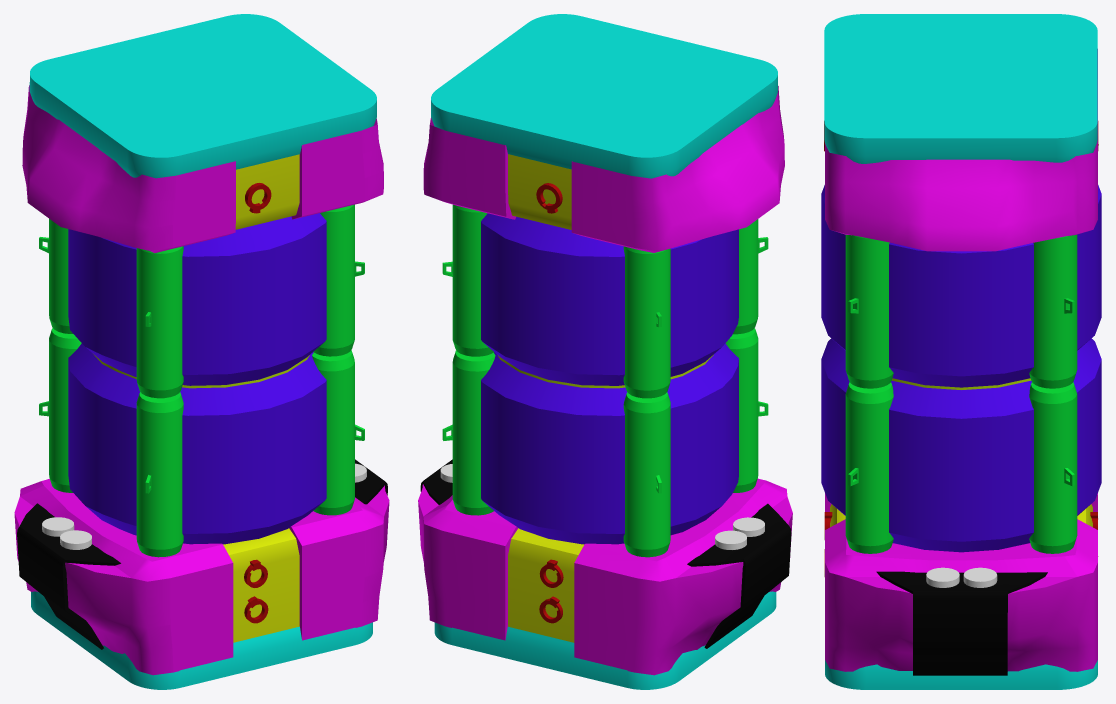
Rendered from SIloLowPolyFinalFix.fbx.
3 renders of one model, left to right at view 1: azimuth 30°, elevation 25°; view 2: azimuth 150°, elevation 25°; view 3: azimuth 270°, elevation 25°, orthographic. The views are drawn at different scales.
Visible parts, largest first — view 1: HighPoly24:Top_Cover, HighPoly25:innert_tube_B1, HighPoly24:innert_tube_B1, HighPoly24:Outer_tubes, HighPoly24:Top_main, polySurface4, polySurface1, HighPoly24:Base_Bottom, HighPoly24:BaseInner, HighPoly24:BasePlate, HighPoly24:Top_inner; view 2: HighPoly24:Top_Cover, HighPoly25:innert_tube_B1, HighPoly24:innert_tube_B1, HighPoly24:Outer_tubes, HighPoly24:Top_main, polySurface4, polySurface1, HighPoly24:Base_Bottom, HighPoly24:BaseInner, HighPoly24:BasePlate, HighPoly24:Top_inner; view 3: HighPoly24:Top_Cover, HighPoly25:innert_tube_B1, HighPoly24:Outer_tubes, HighPoly24:innert_tube_B1, polySurface1, HighPoly24:Top_main, HighPoly24:BasePlate, HighPoly24:Base_Bottom, pasted__Button2, pasted__Button1, HighPoly24:Inner_Tube_Devider.
Boxes of the visible parts, box(x1,y1,x2,y2) form: HighPoly24:Top_Cover: box(29, 14, 376, 178); HighPoly25:innert_tube_B1: box(68, 343, 326, 544); HighPoly24:innert_tube_B1: box(68, 213, 326, 385); HighPoly24:Outer_tubes: box(39, 204, 364, 557); HighPoly24:Top_main: box(22, 85, 383, 253); polySurface4: box(14, 479, 233, 675); polySurface1: box(289, 485, 389, 640); HighPoly24:Base_Bottom: box(31, 591, 372, 689); HighPoly24:BaseInner: box(223, 528, 299, 642); HighPoly24:BasePlate: box(17, 459, 387, 649); HighPoly24:Top_inner: box(235, 154, 299, 229); HighPoly24:Top_Cover: box(431, 14, 777, 178); HighPoly25:innert_tube_B1: box(481, 343, 738, 544); HighPoly24:innert_tube_B1: box(481, 213, 738, 385); HighPoly24:Outer_tubes: box(442, 204, 768, 557); HighPoly24:Top_main: box(423, 86, 784, 252); polySurface4: box(574, 478, 792, 675); polySurface1: box(418, 484, 518, 640); HighPoly24:Base_Bottom: box(434, 591, 776, 689); HighPoly24:BaseInner: box(508, 528, 584, 642); HighPoly24:BasePlate: box(420, 459, 791, 648); HighPoly24:Top_inner: box(508, 154, 571, 229); HighPoly24:Top_Cover: box(824, 14, 1097, 163); HighPoly25:innert_tube_B1: box(821, 338, 1101, 552); HighPoly24:Outer_tubes: box(845, 234, 1077, 553); HighPoly24:innert_tube_B1: box(821, 185, 1101, 387); polySurface1: box(825, 519, 1097, 671); HighPoly24:Top_main: box(825, 49, 1097, 251); HighPoly24:BasePlate: box(876, 571, 1047, 675); HighPoly24:Base_Bottom: box(825, 660, 1097, 689); pasted__Button2: box(963, 567, 997, 587); pasted__Button1: box(926, 567, 959, 587); HighPoly24:Inner_Tube_Devider: box(891, 378, 1031, 389).
Bounding box in the file's own units: 24.76 × 38.71 × 17.77.
